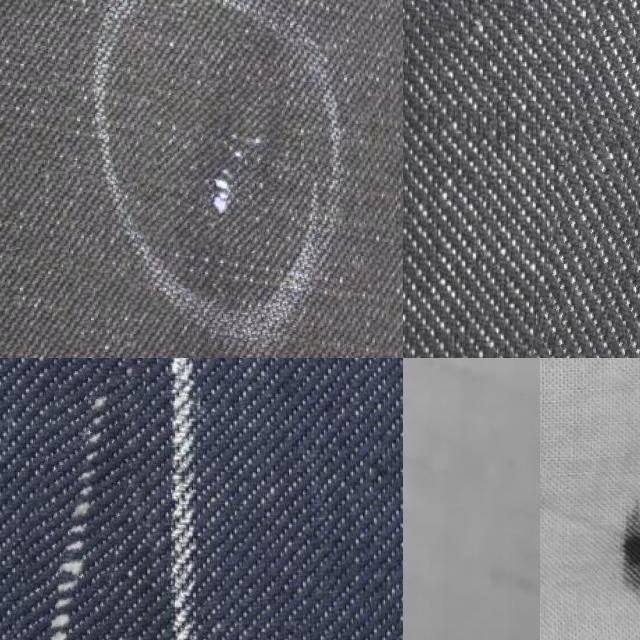Thread_other: (598, 487, 640, 621)
stains: (534, 0, 640, 358), (8, 366, 129, 640), (136, 73, 282, 249)
